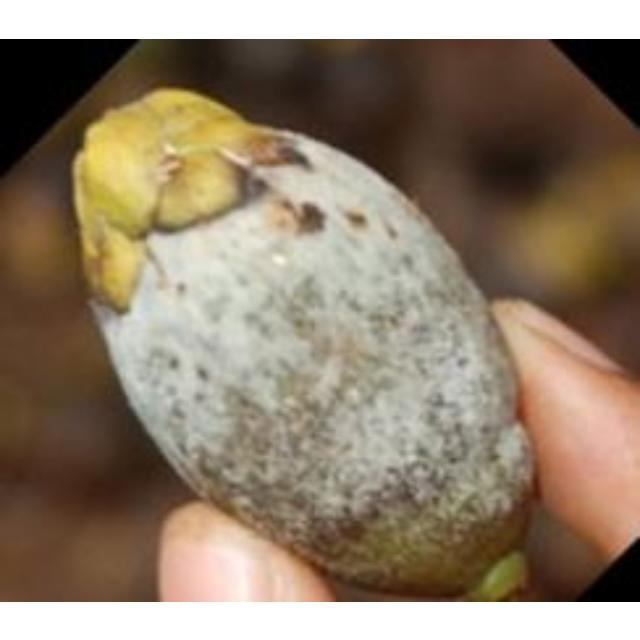damaged: (71, 88, 538, 599)
